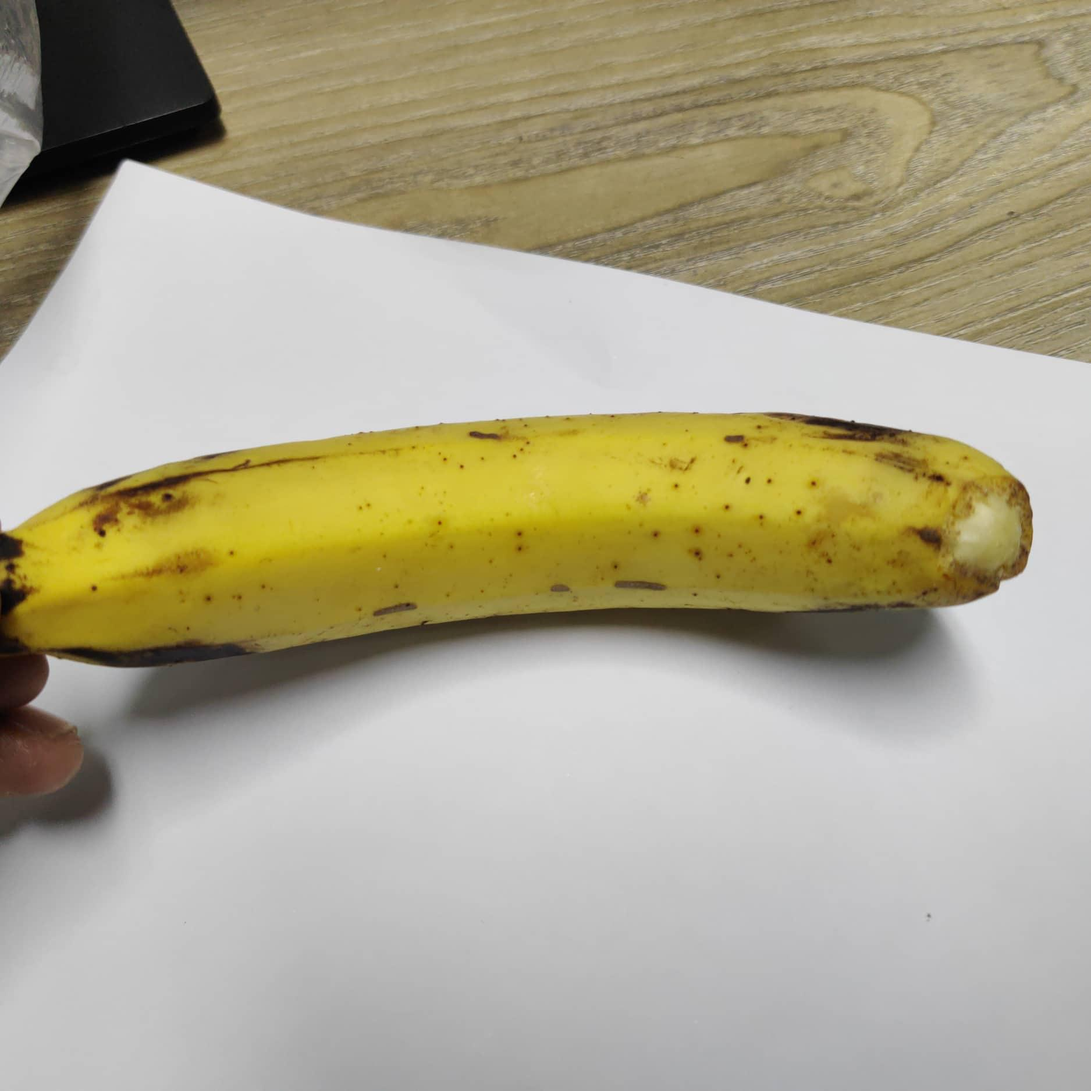Banana Ripe: (0, 379, 1091, 780)
